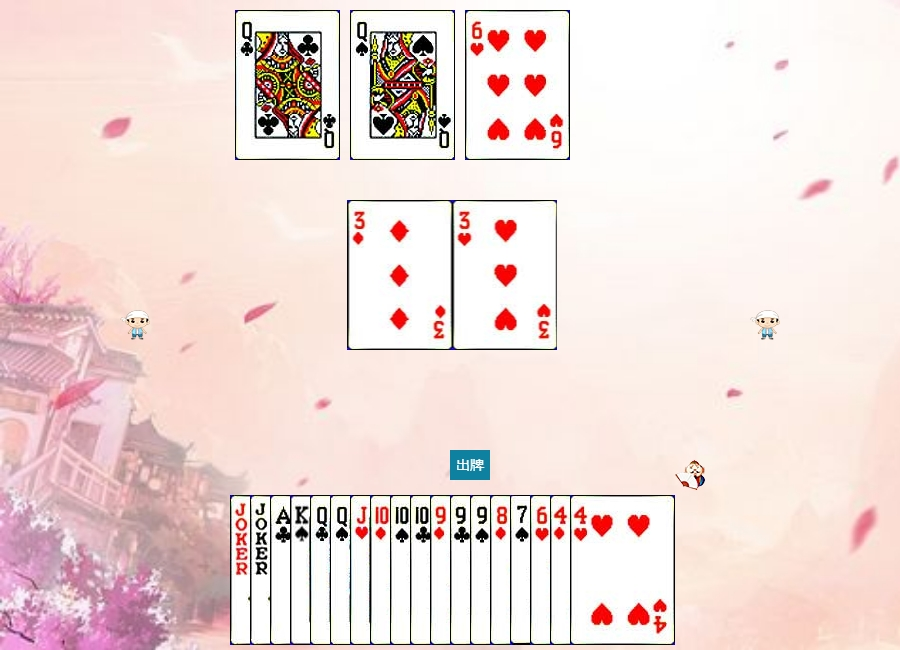10~1: (370, 495, 475, 645)
10~2: (410, 495, 515, 645)
10~4: (390, 495, 495, 645)
11~3: (350, 495, 455, 645)
12~2: (235, 10, 340, 160), (310, 495, 415, 645)
12~4: (350, 10, 455, 160), (330, 495, 435, 645)
13~4: (290, 495, 395, 645)
14~2: (270, 495, 375, 645)
17~3: (250, 495, 355, 645)
18~4: (230, 495, 335, 645)
3~1: (348, 200, 453, 350)
3~3: (453, 200, 558, 350)
4~1: (550, 495, 655, 645)
4~3: (570, 495, 675, 645)
6~3: (465, 10, 570, 160), (530, 495, 635, 645)
7~4: (510, 495, 615, 645)
8~1: (490, 495, 595, 645)
9~1: (430, 495, 535, 645)
9~2: (450, 495, 555, 645)
9~4: (470, 495, 575, 645)
